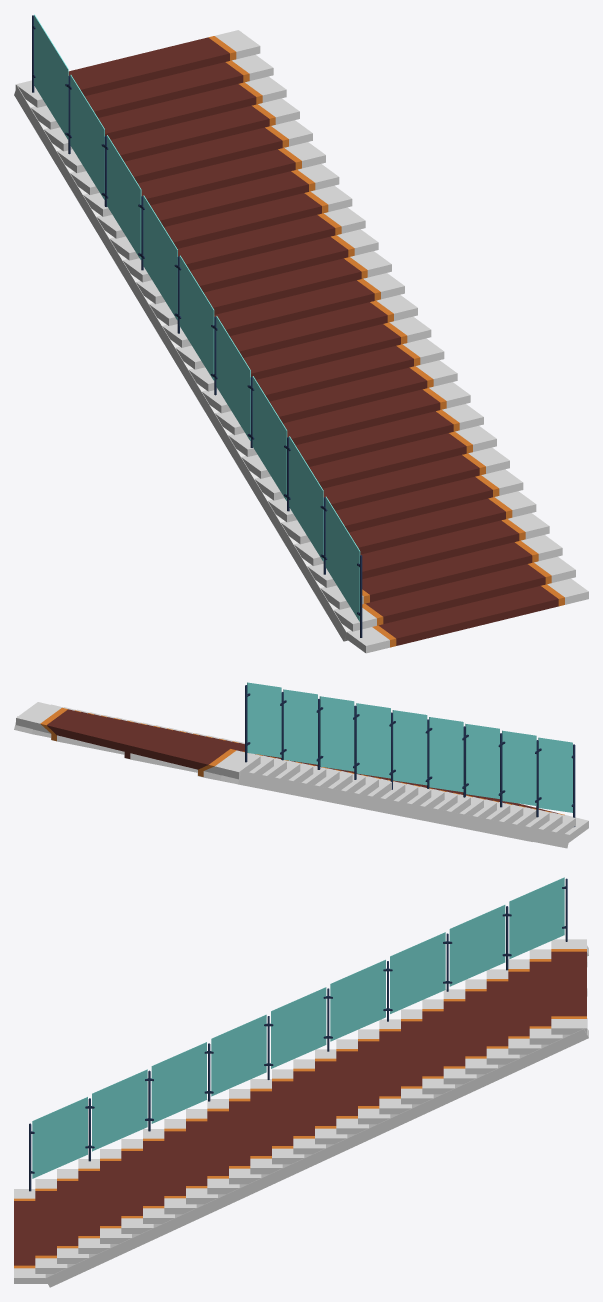
The model's file is Stairs Office.fbx.
3 views of the same model, one above another, from view 1: azimuth 30°, elevation 25°; view 2: azimuth 150°, elevation 25°; view 3: azimuth 270°, elevation 25° (orthographic). The views are drawn at different scales.
Parts seen in each view (by area): view 1: Cube, Rail.003, Cube.006, Rail End B.001; view 2: Rail.003, Cube, Cube.006, Rail End B.001; view 3: Cube, Rail.003, Cube.006, Rail End B.001.
Part boxes in pixels (left/top/right/bottom): Cube: left=15, top=30, right=588, bottom=653; Rail.003: left=65, top=75, right=360, bottom=621; Cube.006: left=14, top=31, right=350, bottom=641; Rail End B.001: left=32, top=14, right=362, bottom=637; Rail.003: left=280, top=689, right=572, bottom=817; Cube: left=16, top=702, right=588, bottom=842; Cube.006: left=14, top=716, right=570, bottom=848; Rail End B.001: left=245, top=682, right=575, bottom=826; Cube: left=14, top=939, right=586, bottom=1283; Rail.003: left=32, top=905, right=511, bottom=1178; Cube.006: left=45, top=945, right=588, bottom=1287; Rail End B.001: left=29, top=877, right=567, bottom=1191.
Size of the model in its own units: 3 by 5.09 by 8.14.
